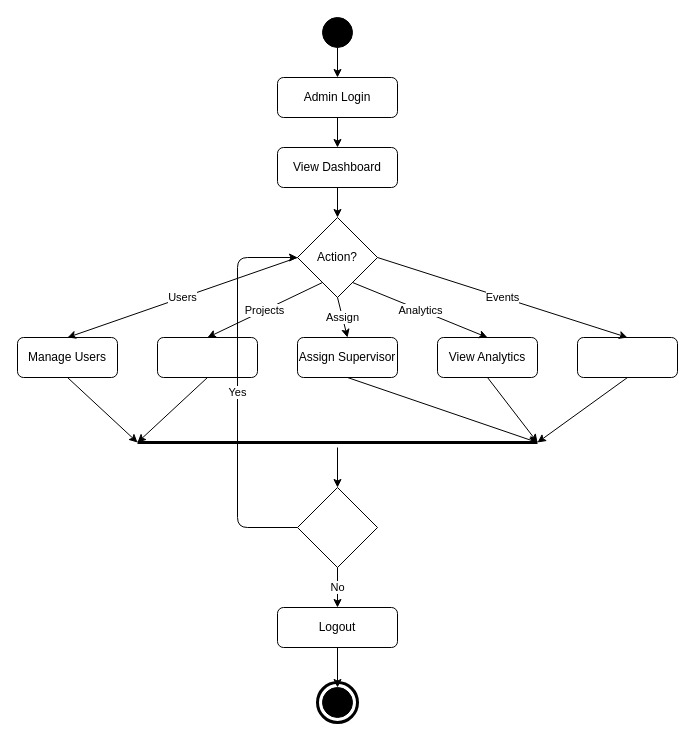
The diagram is 695 pixels wide and 741 high, and some of its shapes have lost their labels. The box of each missing label's shape, as (x1, y1, x2, y2) in pixels:
Continue?: (296, 486, 378, 568)
Manage Events: (576, 336, 678, 378)
Review Projects: (156, 336, 258, 378)
